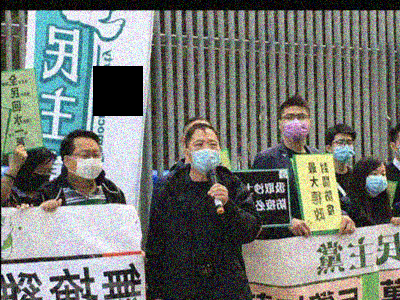with_mask: (188, 137, 221, 175), (69, 145, 101, 179), (281, 109, 309, 142), (331, 136, 355, 163), (30, 164, 53, 191), (366, 168, 386, 197)
